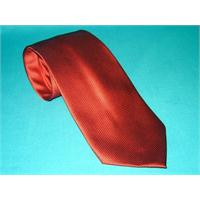tie: (22, 29, 166, 168)
